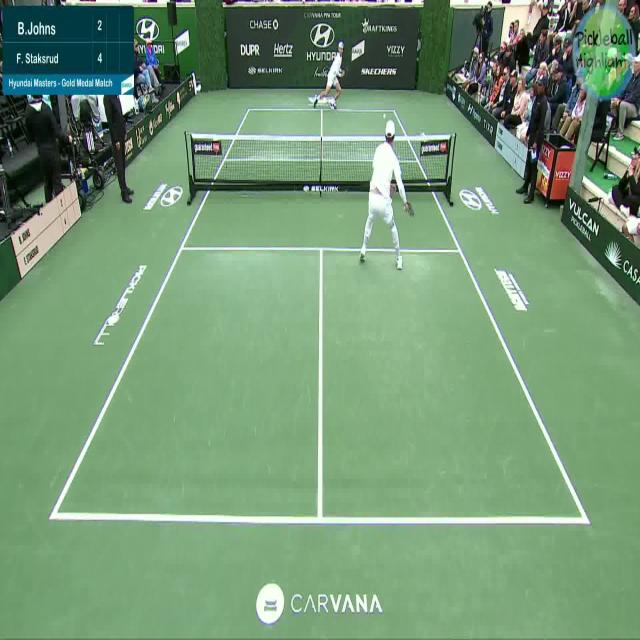ball: (383, 112, 385, 119)
